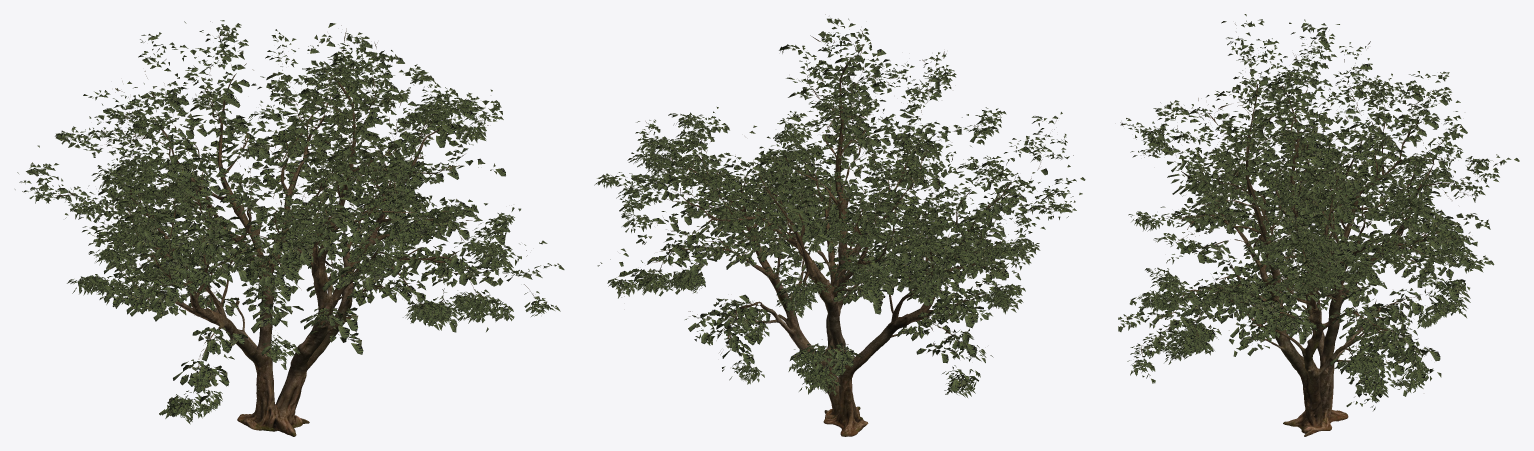
File: jacaranda_light.glb
3 views of the same model, side by side, from view 1: azimuth 30°, elevation 25°; view 2: azimuth 150°, elevation 25°; view 3: azimuth 270°, elevation 25° (orthographic). The views are drawn at different scales.
Parts seen in each view (by area): view 1: jacaranda_tree_LOD0; view 2: jacaranda_tree_LOD0; view 3: jacaranda_tree_LOD0.
Part boxes in pixels (x1,y1,x2,y2): jacaranda_tree_LOD0: (15, 20, 564, 436); jacaranda_tree_LOD0: (594, 14, 1085, 436); jacaranda_tree_LOD0: (1118, 14, 1519, 436).
Size of the model in its own units: 23.94 by 19.33 by 19.02.
3 materials, 3 textured.
